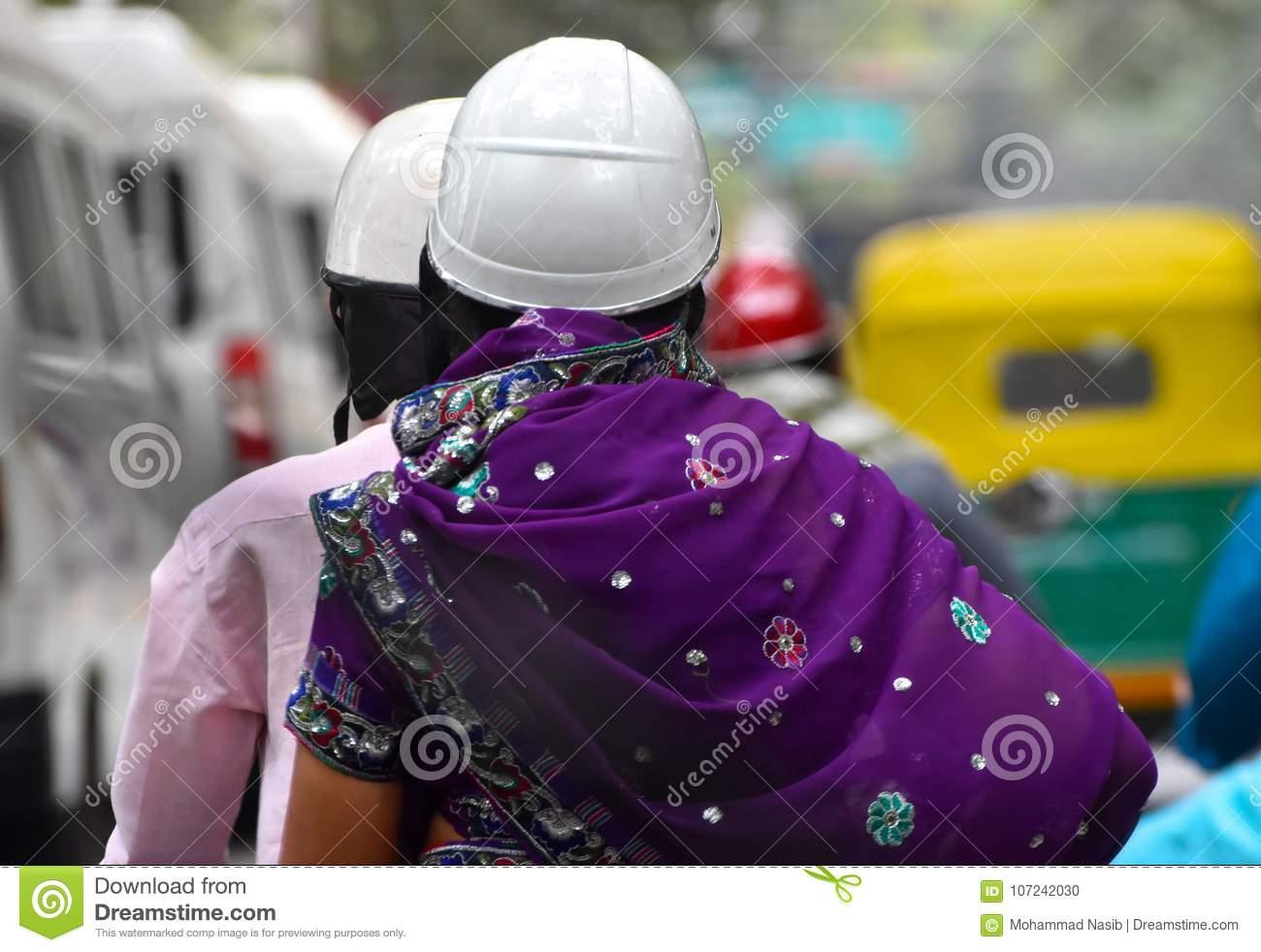helmet: (442, 34, 726, 332), (302, 78, 534, 370)
